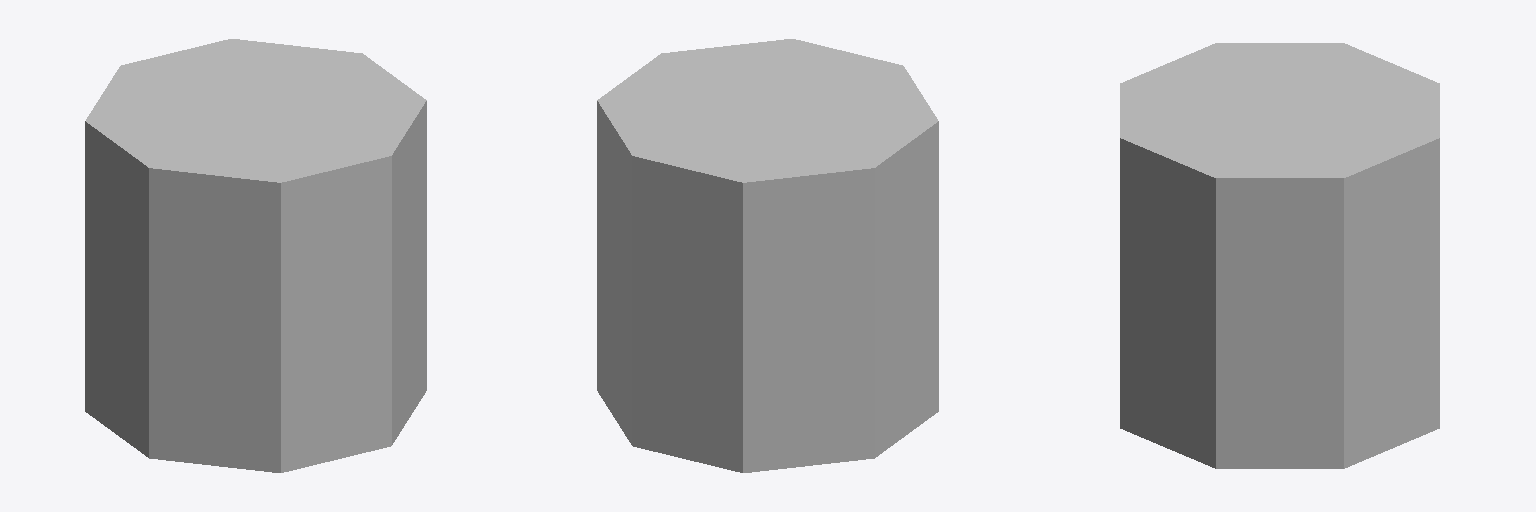
3 renders of one model, left to right at view 1: azimuth 30°, elevation 25°; view 2: azimuth 150°, elevation 25°; view 3: azimuth 270°, elevation 25°, orthographic.
Visible parts, largest first — view 1: nocull, cullu; view 2: nocull, cullu; view 3: nocull, cullu.
Boxes of the visible parts, box(x1,y1,x2,y2) form: nocull: box(85, 101, 426, 472); cullu: box(86, 39, 426, 182); nocull: box(597, 101, 938, 472); cullu: box(597, 39, 937, 182); nocull: box(1120, 138, 1439, 468); cullu: box(1120, 43, 1439, 177).
Bounding box in the file's own units: 2 × 2 × 2.